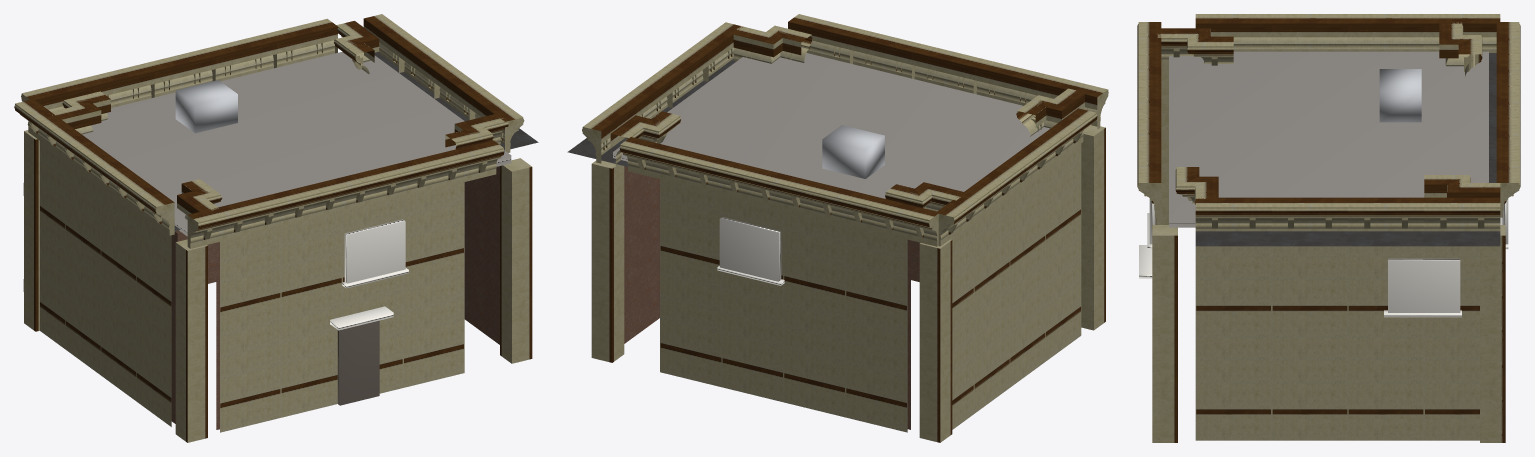
Rendered from b_house2.gltf.
The picture shows the model from 3 angles, left to right: view 1: azimuth 30°, elevation 25°; view 2: azimuth 150°, elevation 25°; view 3: azimuth 270°, elevation 25°; orthographic projection. The views are drawn at different scales.
Parts seen in each view (by area): view 1: b_house2; view 2: b_house2; view 3: b_house2.
Part boxes in pixels (left/top/right/bottom): b_house2: left=14, top=14, right=538, bottom=442; b_house2: left=567, top=14, right=1108, bottom=442; b_house2: left=1137, top=14, right=1520, bottom=442.
Size of the model in its own units: 12.53 by 7.3 by 10.06.
Materials: 9 (3 with a texture image).
